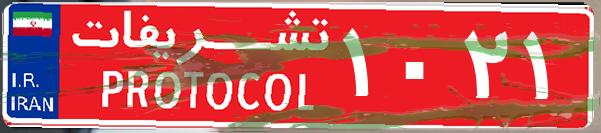0: (400, 20, 460, 115)
1: (340, 20, 400, 115), (520, 20, 580, 115)
2: (460, 20, 520, 115)
تشریفات: (60, 8, 340, 125)
